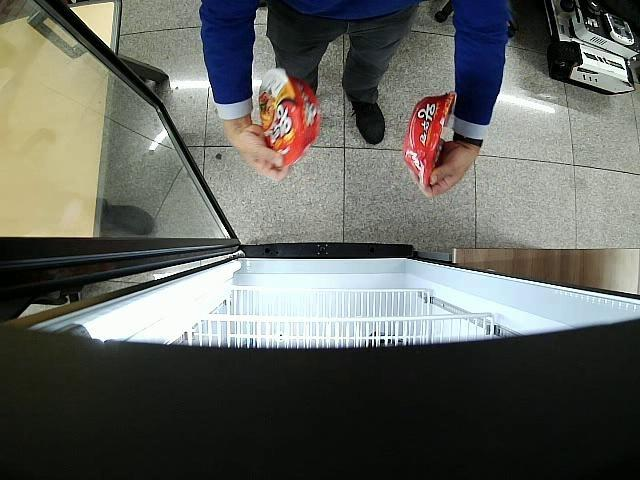10_wangTtukkeong: (258, 69, 320, 166), (404, 92, 456, 186)
